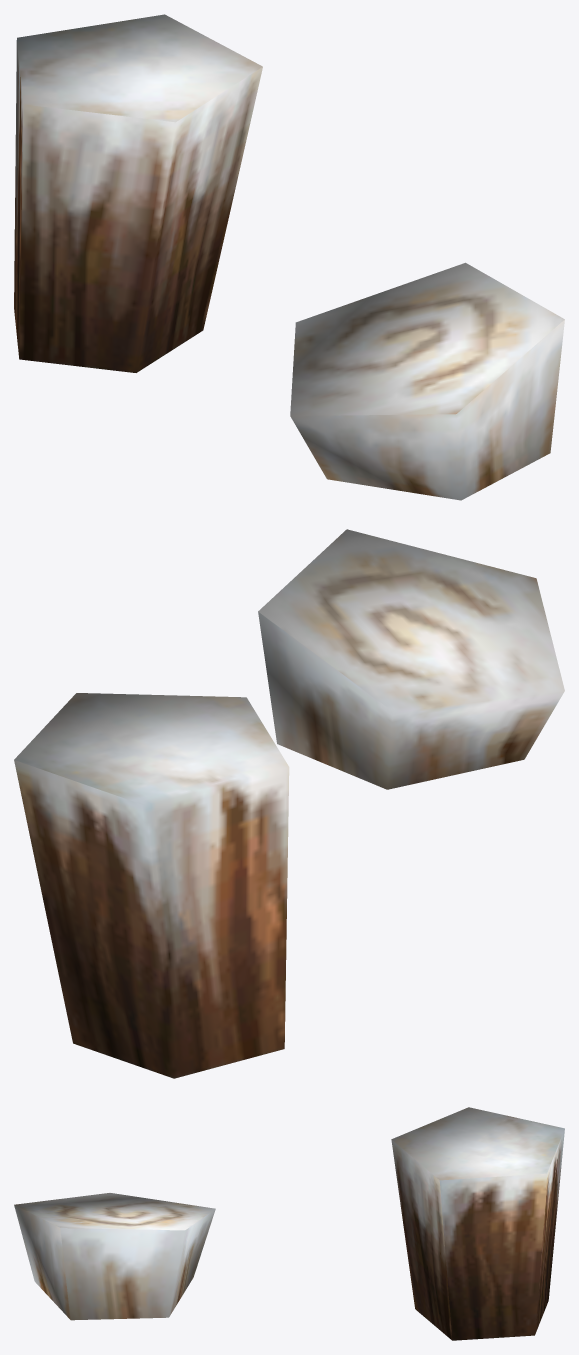
File: SM_Enclosure_20.fbx
The picture shows the model from 3 angles, top to bottom: view 1: azimuth 30°, elevation 25°; view 2: azimuth 150°, elevation 25°; view 3: azimuth 270°, elevation 25°; orthographic projection. The views are drawn at different scales.
Parts seen in each view (by area): view 1: SM_Enclosure_20; view 2: SM_Enclosure_20; view 3: SM_Enclosure_20.
Boxes of the visible parts, x1=… form: SM_Enclosure_20: x1=14, y1=14, x2=564, y2=500; SM_Enclosure_20: x1=14, y1=529, x2=564, y2=1078; SM_Enclosure_20: x1=14, y1=1107, x2=564, y2=1340.
Size of the model in its own units: 0.4204 by 0.4248 by 1.2.
